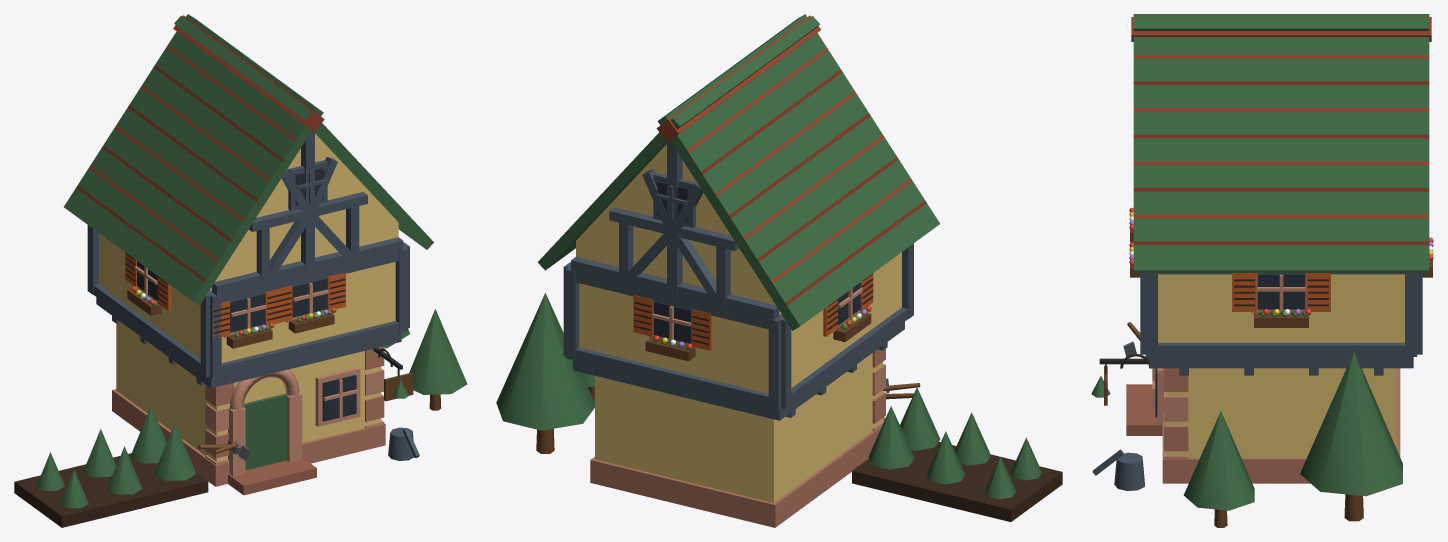
Rendered from foerster.glb.
3 views of the same model, side by side, from view 1: azimuth 30°, elevation 25°; view 2: azimuth 150°, elevation 25°; view 3: azimuth 270°, elevation 25° (orthographic). The views are drawn at different scales.
Bounding box in the file's own units: 4.7 × 3.83 × 2.83.
